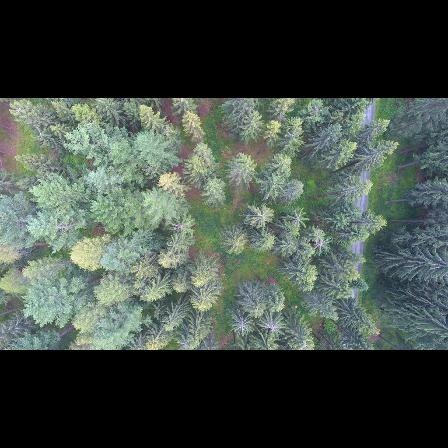Sick: (231, 305, 253, 340), (260, 312, 285, 337), (282, 121, 303, 146), (287, 206, 308, 228), (170, 214, 191, 235), (28, 124, 50, 144)
